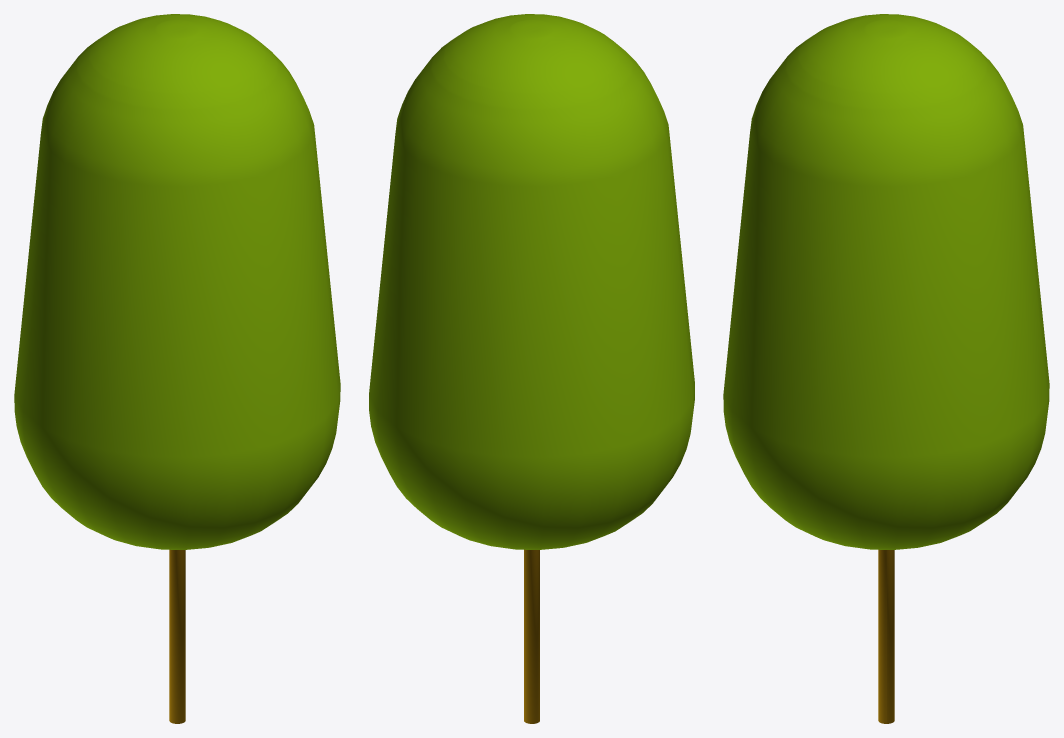
The model's file is HPSo14m.glb.
3 renders of one model, left to right at view 1: azimuth 30°, elevation 25°; view 2: azimuth 150°, elevation 25°; view 3: azimuth 270°, elevation 25°, orthographic.
Visible parts, largest first — view 1: HPSo14m; view 2: HPSo14m; view 3: HPSo14m.
Part boxes in pixels (x1,y1,x2,y2): HPSo14m: (14, 14, 340, 723); HPSo14m: (369, 14, 694, 723); HPSo14m: (723, 14, 1049, 723).
Size of the model in its own units: 5.98 by 14 by 5.98.
